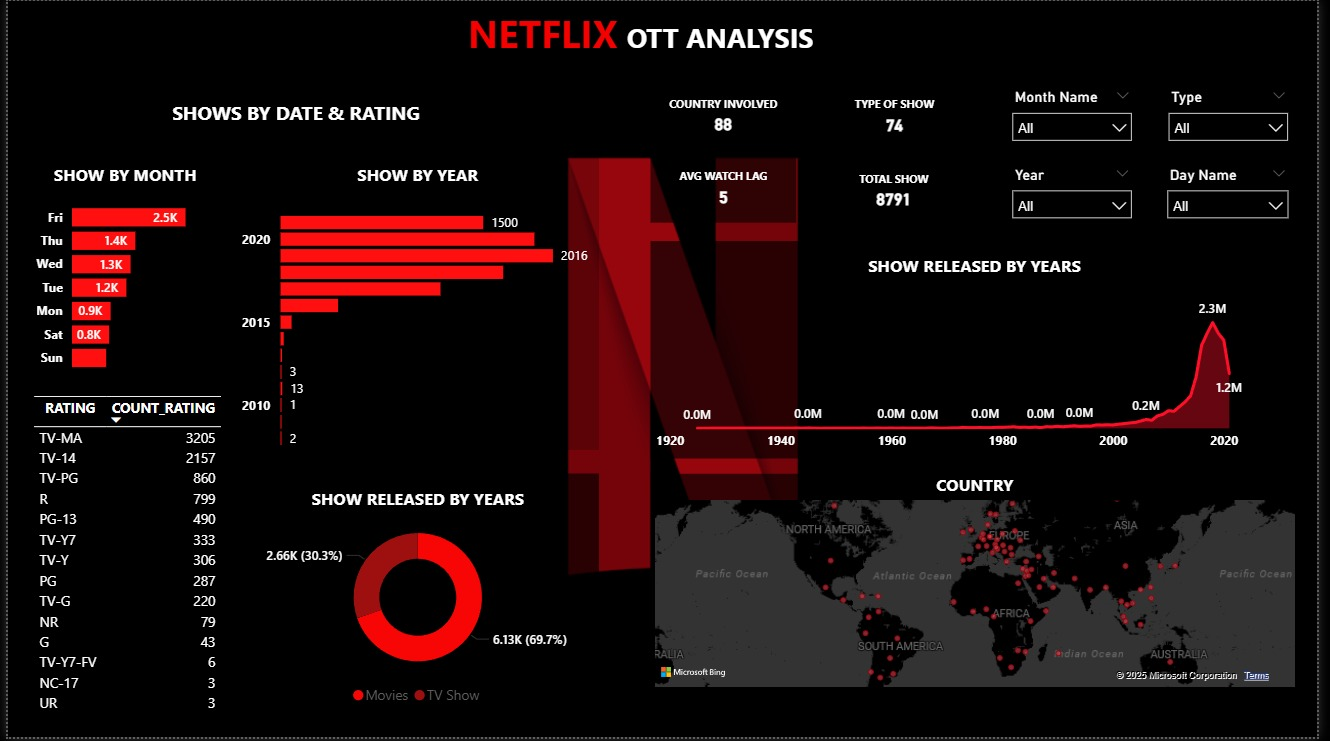

This screenshot's page, from the dashboard's own definition file:
{"tool":"powerbi","page":{"name":"Page 1","canvas":[1280,720],"ordinal":0},"visuals":[{"type":"textbox","box":[401.3,0,436.3,68.9],"z":0},{"type":"card","title":"TOTAL SHOW","fields":{"Values":["CountNonNull(netflix1.show_id)"]},"box":[798.6,155,136.2,62.5],"z":1000},{"type":"card","title":"AVG WATCH LAG","fields":{"Values":["Avg(netflix1.Year Diff)"]},"box":[628.8,153.4,142.6,63.7],"z":2000},{"type":"card","title":"COUNTRY INVOLVED","fields":{"Values":["netflix1.Total Show"]},"box":[628.8,82.1,142.6,62.7],"z":3000},{"type":"barChart","title":"SHOW BY YEAR","fields":{"Category":["netflix1.Year"],"Y":["CountNonNull(netflix1.show_id)"]},"box":[223.7,145.9,354.4,293.9],"z":5000},{"type":"barChart","title":"SHOW BY MONTH","fields":{"Category":["netflix1.Day Name"],"Y":["CountNonNull(netflix1.show_id)"]},"box":[20.5,145.9,188,226.9],"z":6000},{"type":"textbox","box":[149.8,91.9,267.9,37.2],"z":7000},{"type":"lineChart","title":"SHOW RELEASED BY YEARS","fields":{"Category":["netflix1.release_year"],"Y":["Sum(netflix1.release_year)"]},"box":[628.8,234.5,634.2,212.8],"z":8000},{"type":"donutChart","title":"SHOW RELEASED BY YEARS","fields":{"Category":["netflix1.type"],"Y":["CountNonNull(netflix1.show_id)"]},"box":[223.8,462.2,354.6,236],"z":9000},{"type":"pivotTable","fields":{"Rows":["netflix1.rating"],"Values":["CountNonNull(netflix1.rating)"]},"box":[20.5,381.4,203.1,326.3],"z":10000},{"type":"card","title":"TYPE OF SHOW","fields":{"Values":["netflix2.Toatal Type of show"]},"box":[798.6,82.5,137.5,63.7],"z":11000},{"type":"slicer","fields":{"Values":["netflix1.Month Name"]},"box":[972.3,81.2,137.5,58.7],"z":12000},{"type":"slicer","fields":{"Values":["netflix1.type"]},"box":[1124.8,81.2,137.5,60],"z":13000},{"type":"slicer","fields":{"Values":["netflix1.Day Name"]},"box":[1123.5,156.2,138.7,61.2],"z":14000},{"type":"slicer","fields":{"Values":["netflix1.Year"]},"box":[972.4,156.7,137.2,59.4],"z":15000},{"type":"map","title":"COUNTRY","fields":{"Category":["netflix1.country"]},"box":[628.5,462.2,634.7,214],"z":16001}]}

Visuals, with their boxes in screenshot pixels (x1, y1, x2, y2), scaled from the page's 1280x720 canvas onto the 1330x741 screenshot:
textbox: detection(417, 0, 870, 71)
"TOTAL SHOW" card: detection(830, 160, 971, 224)
"AVG WATCH LAG" card: detection(653, 158, 802, 223)
"COUNTRY INVOLVED" card: detection(653, 84, 802, 149)
"SHOW BY YEAR" barChart: detection(232, 150, 601, 453)
"SHOW BY MONTH" barChart: detection(21, 150, 217, 384)
textbox: detection(156, 95, 434, 133)
"SHOW RELEASED BY YEARS" lineChart: detection(653, 241, 1312, 460)
"SHOW RELEASED BY YEARS" donutChart: detection(233, 476, 601, 719)
pivotTable - netflix1.rating x CountNonNull(netflix1.rating): detection(21, 393, 232, 728)
"TYPE OF SHOW" card: detection(830, 85, 973, 150)
slicer - netflix1.Month Name: detection(1010, 84, 1153, 144)
slicer - netflix1.type: detection(1169, 84, 1312, 145)
slicer - netflix1.Day Name: detection(1167, 161, 1312, 224)
slicer - netflix1.Year: detection(1010, 161, 1153, 222)
"COUNTRY" map: detection(653, 476, 1313, 696)
